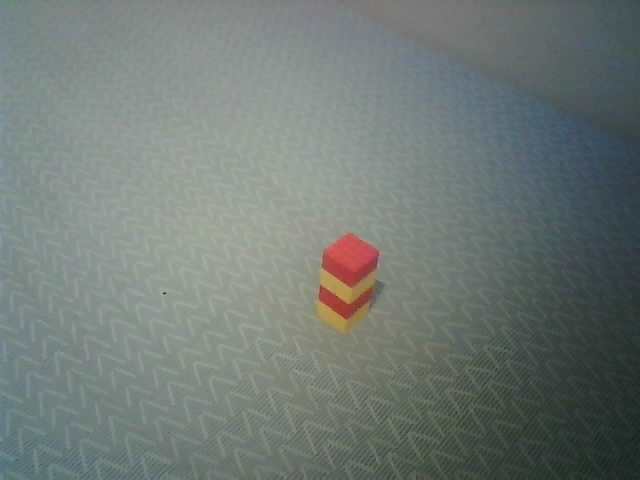lego: (314, 232, 380, 335)
